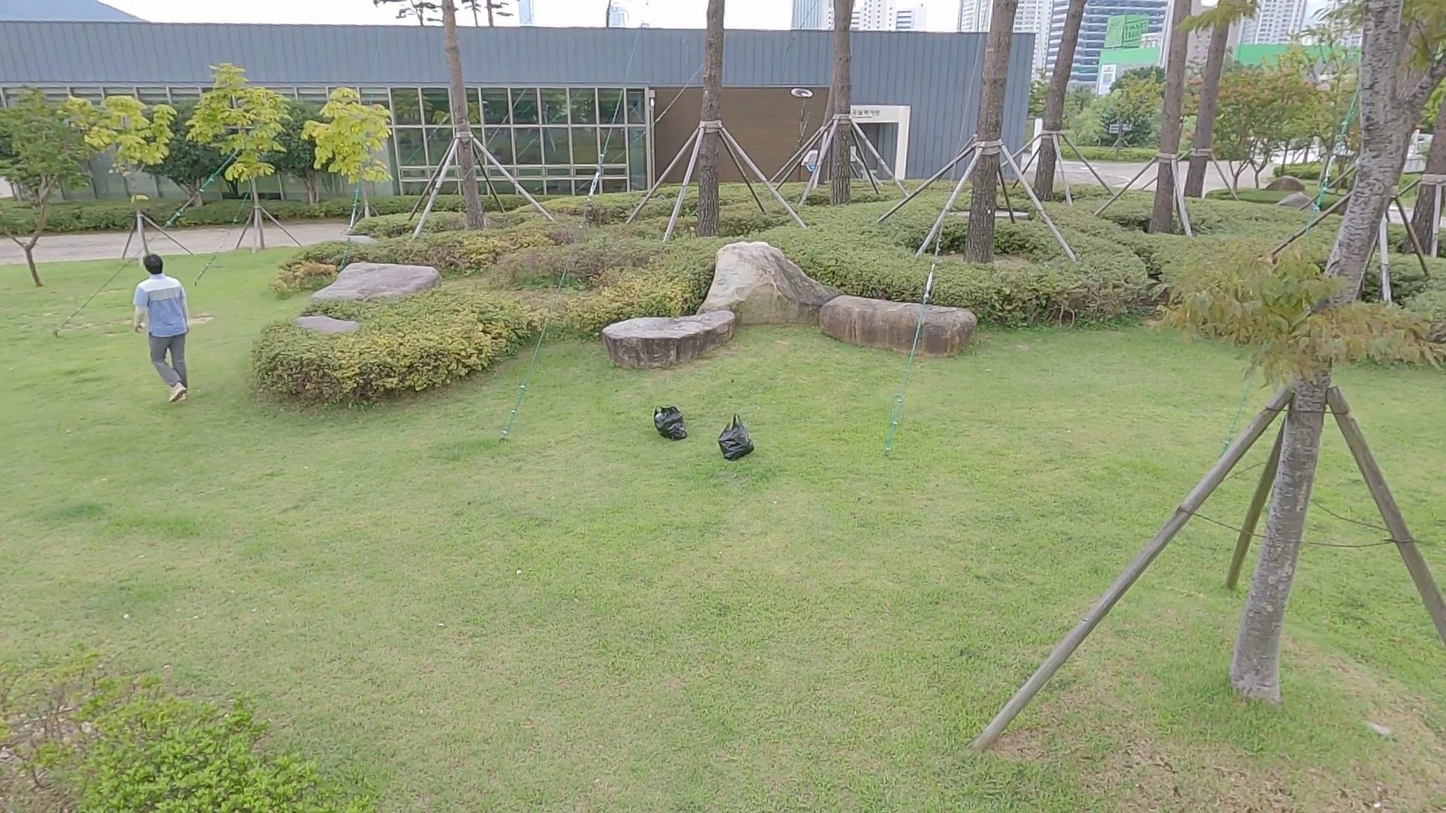person: (134, 254, 191, 407)
trash: (718, 413, 755, 460), (652, 406, 690, 440)
